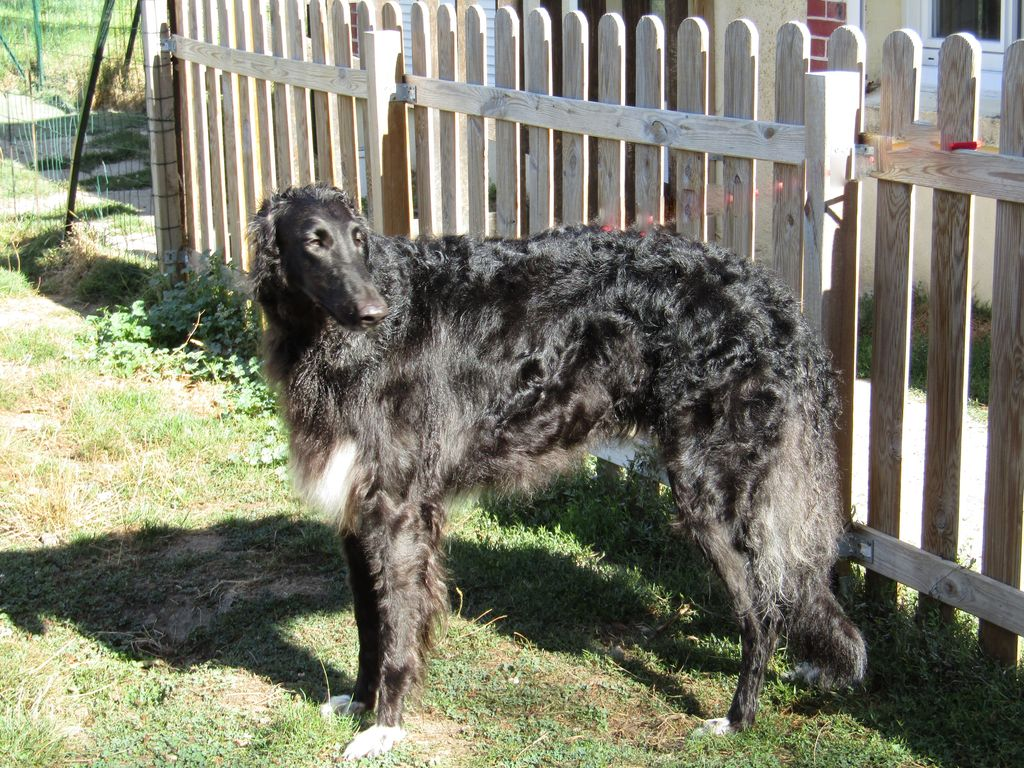borzoi: (211, 178, 889, 766)
